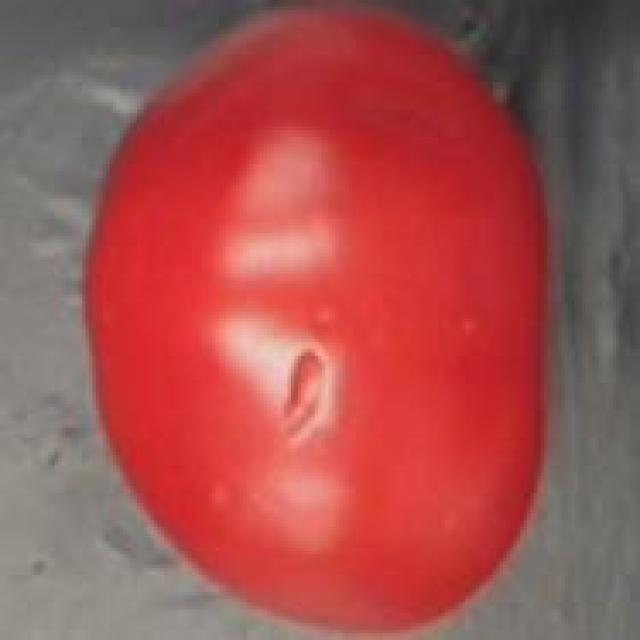ripe tomato: (79, 0, 568, 640)
